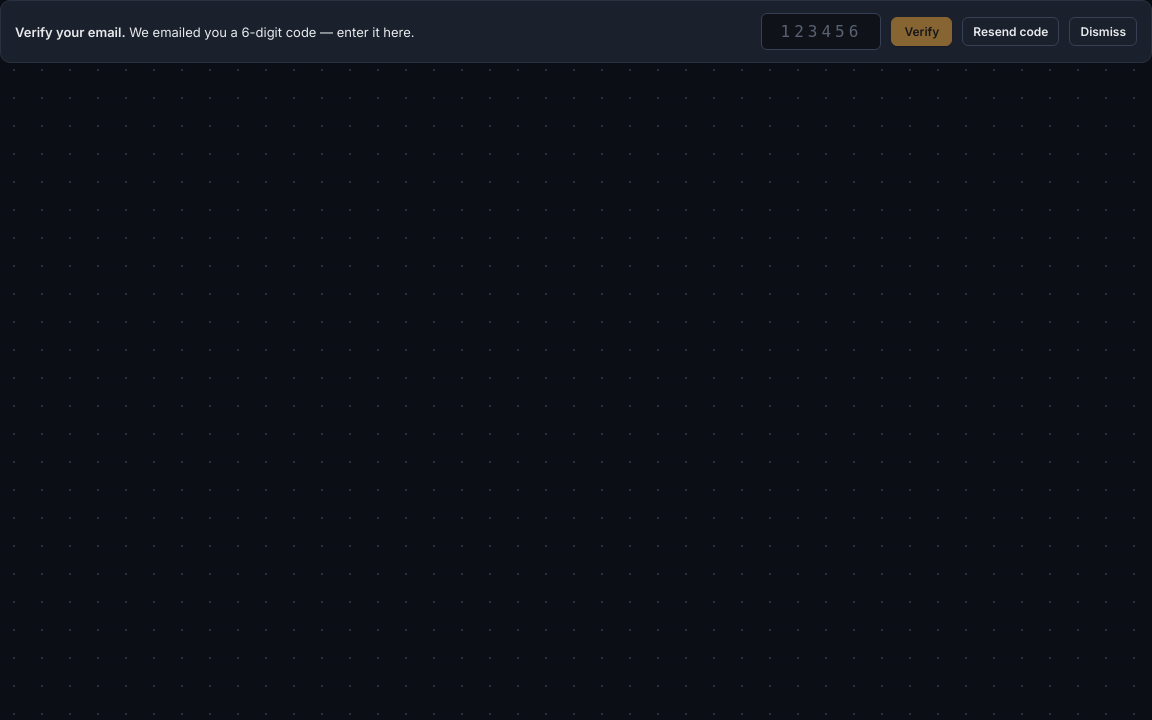
it: VerificationBanner (email OTP) › resends a code and then enforces a cooldown
Step 1. Click the button "Resend code" → (1011, 32), box [962,17,1060,46]
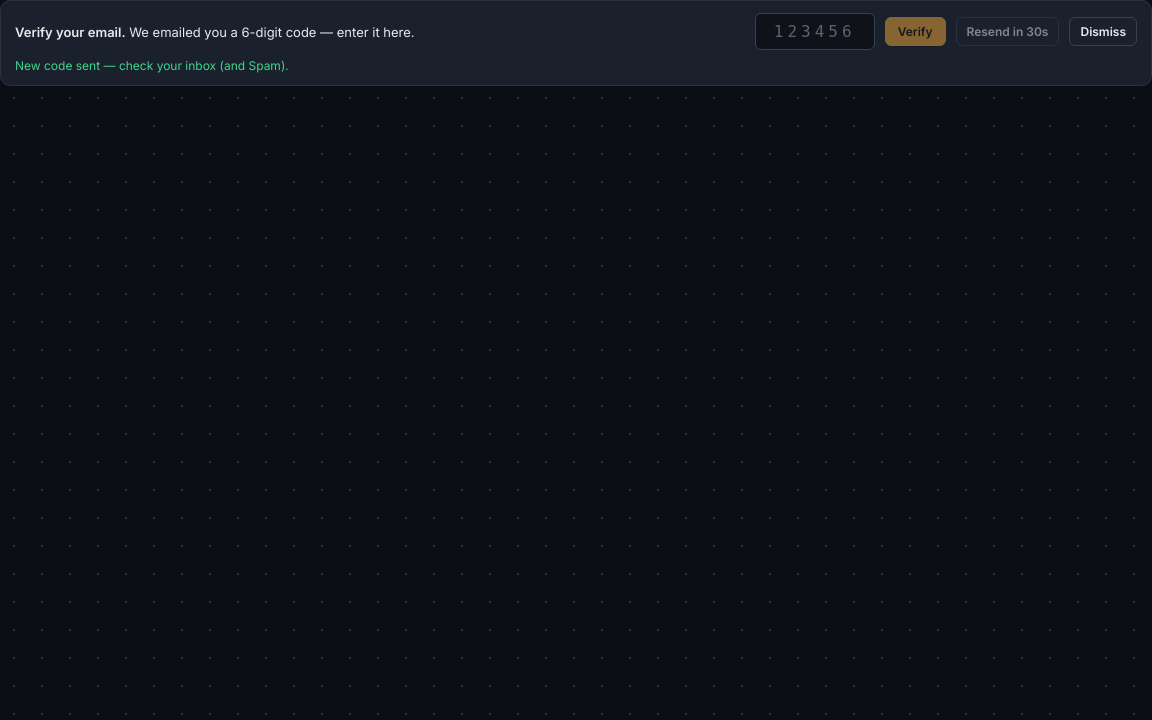
Result: the button "Resend in 30s" is disabled at [956,17,1060,46]
